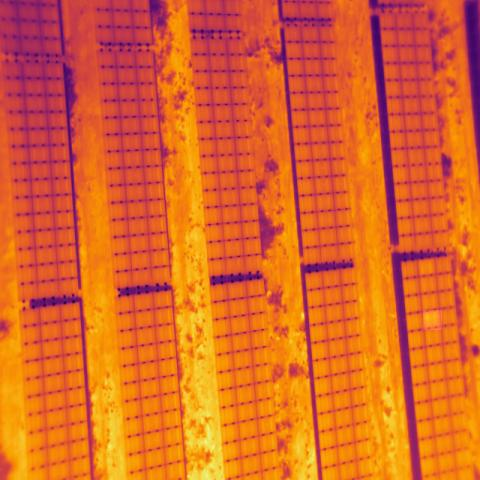fault: (423, 310, 442, 330)
